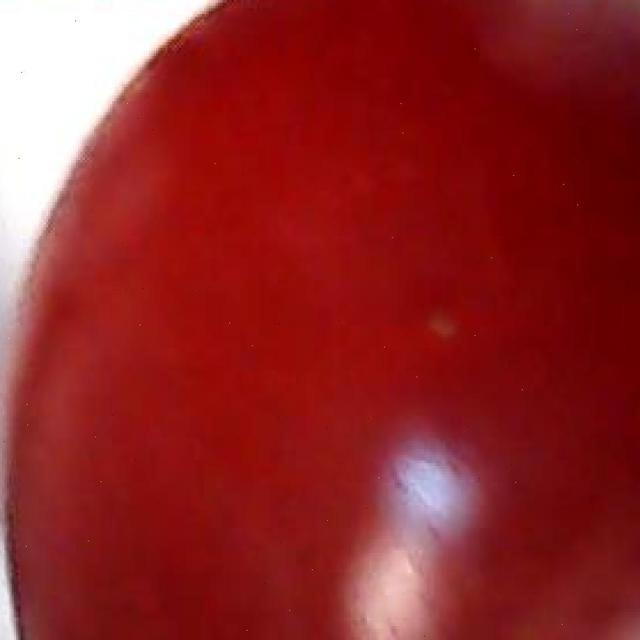Healthy Fruit: (8, 11, 424, 424)
